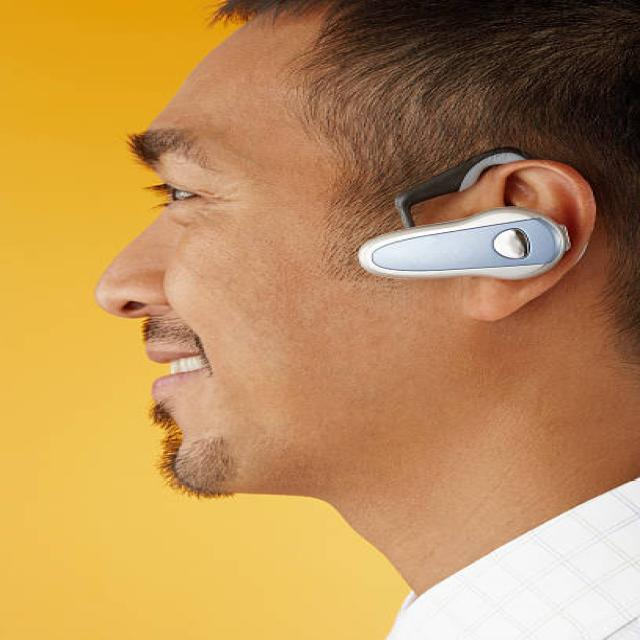Headphone: (355, 148, 574, 283)
